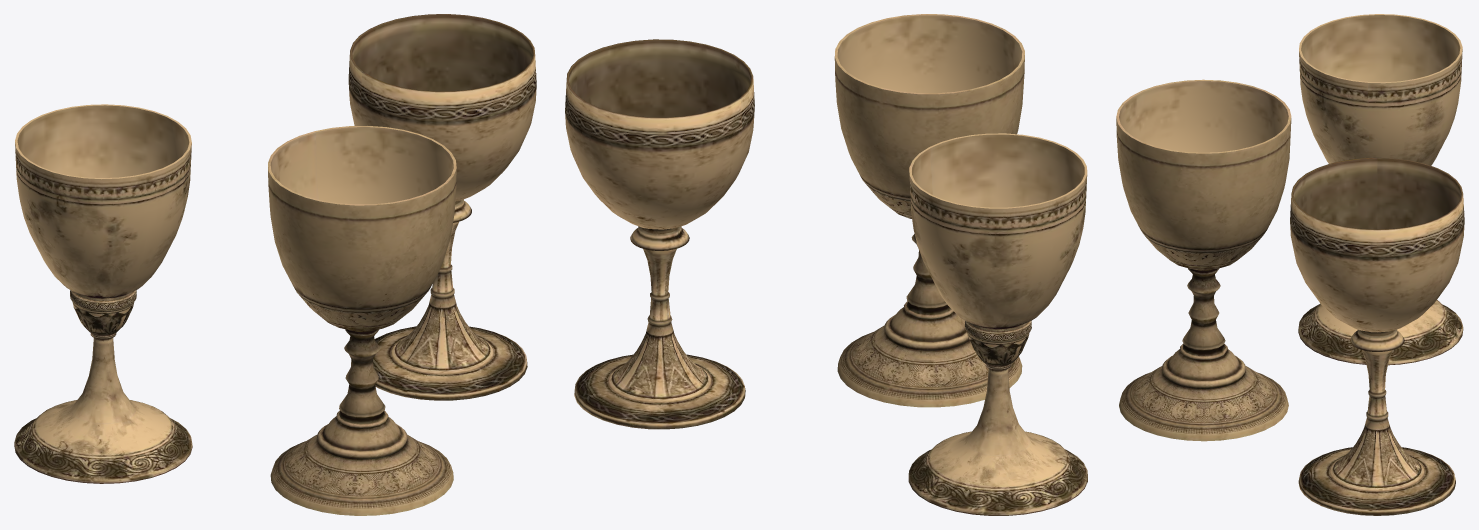
The model's file is brass_goblets.glb.
The picture shows the model from 3 angles, left to right: view 1: azimuth 30°, elevation 25°; view 2: azimuth 150°, elevation 25°; view 3: azimuth 270°, elevation 25°; orthographic projection. The views are drawn at different scales.
Visible parts, largest first — view 1: brass_goblet_01, brass_goblet_02, brass_goblet_03; view 2: brass_goblet_02, brass_goblet_03, brass_goblet_01; view 3: brass_goblet_01, brass_goblet_03, brass_goblet_02.
Boxes of the visible parts, x1=… form: brass_goblet_01: x1=268, y1=126, x2=456, y2=515; brass_goblet_02: x1=14, y1=104, x2=192, y2=483; brass_goblet_03: x1=348, y1=14, x2=536, y2=400; brass_goblet_02: x1=908, y1=133, x2=1087, y2=515; brass_goblet_03: x1=565, y1=39, x2=754, y2=429; brass_goblet_01: x1=834, y1=14, x2=1024, y2=407; brass_goblet_01: x1=1116, y1=79, x2=1291, y2=441; brass_goblet_03: x1=1290, y1=157, x2=1464, y2=515; brass_goblet_02: x1=1298, y1=14, x2=1463, y2=365.
Size of the model in its own units: 0.4534 by 0.2734 by 0.2976.
3 materials, 3 textured.
